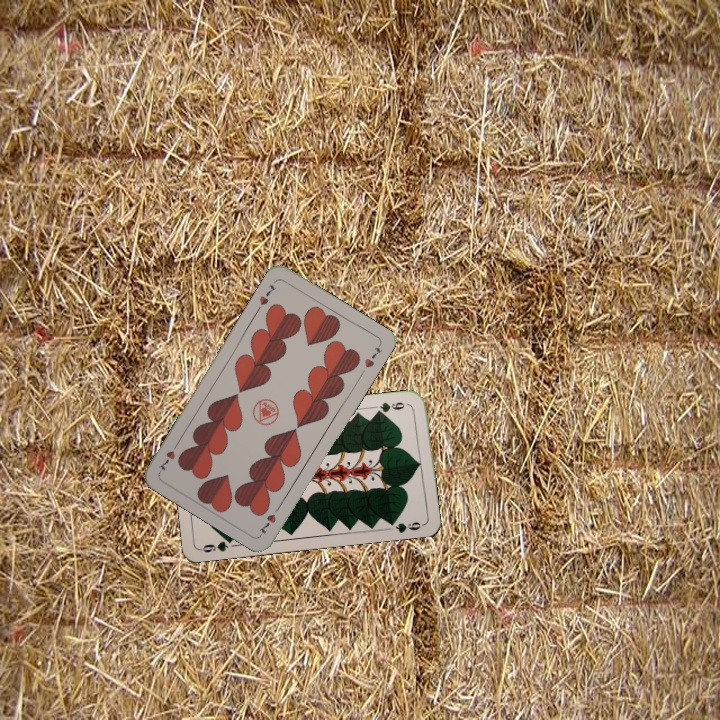G9: (197, 534, 236, 555), (371, 398, 411, 416)
H7: (255, 501, 284, 537), (255, 280, 279, 308)
